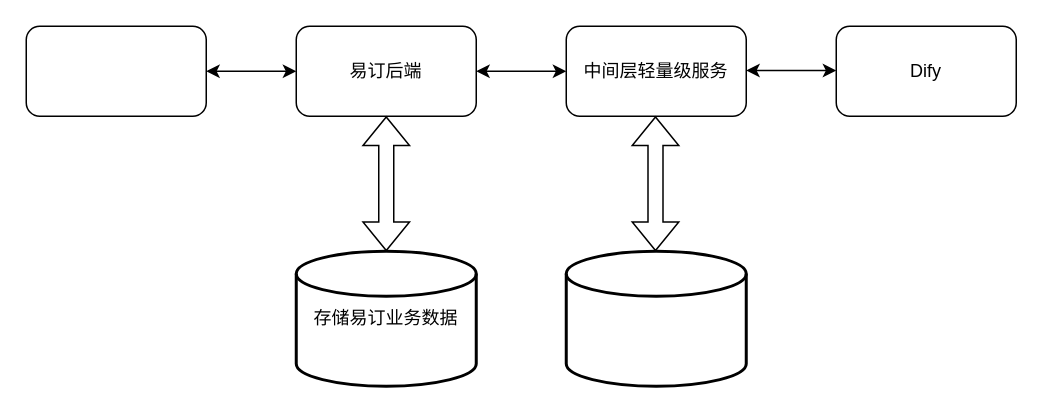
This 1043x414 diagram has some shape labels left out. The shapes that lost their labels are listed below. From the top down, each one's centre as x and y in pixels, then its label:
At (x=115, y=70): "前端".
At (x=655, y=318): "存储Dify调用详细日志 及 生成的图文记录".
